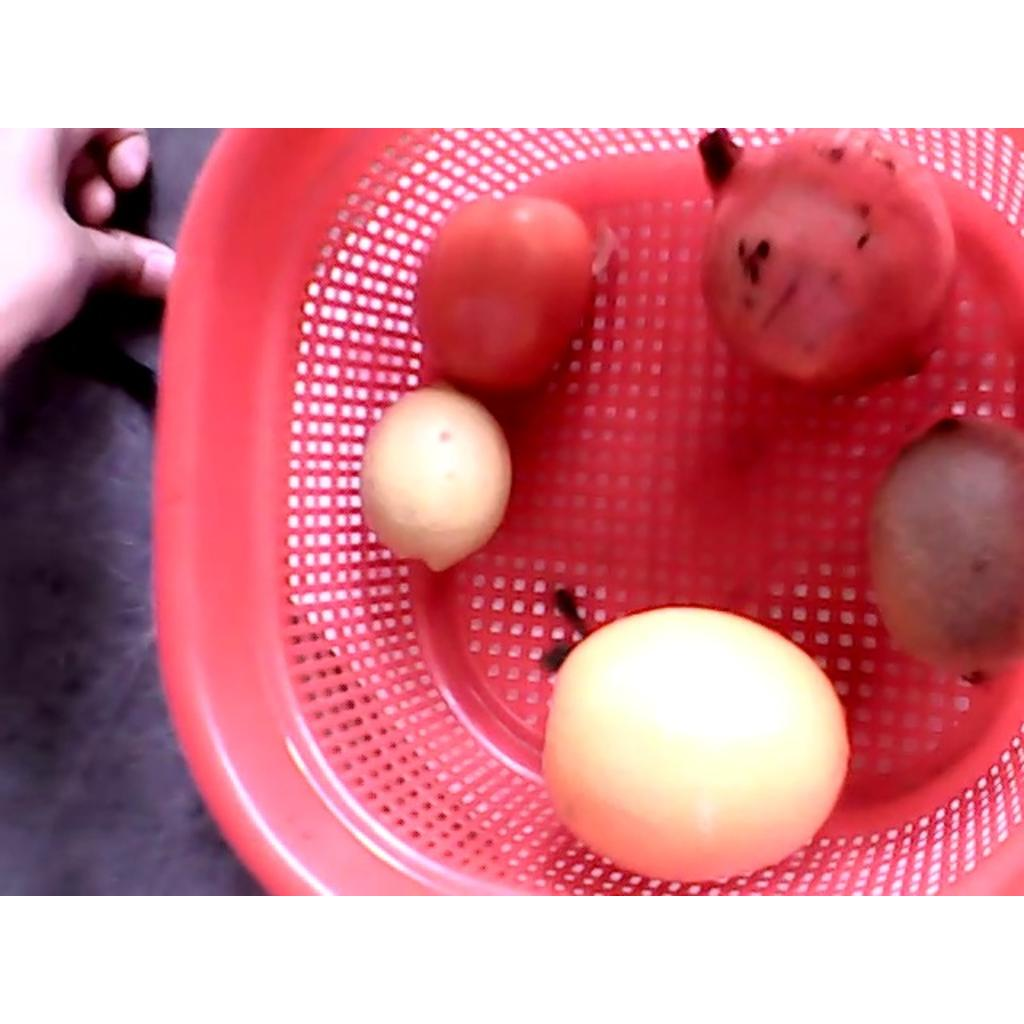kiwi: (869, 413, 1022, 690)
lemon: (360, 388, 511, 572)
orange: (540, 606, 848, 879)
pomegranate: (695, 128, 954, 398)
tomato: (409, 198, 596, 389)
